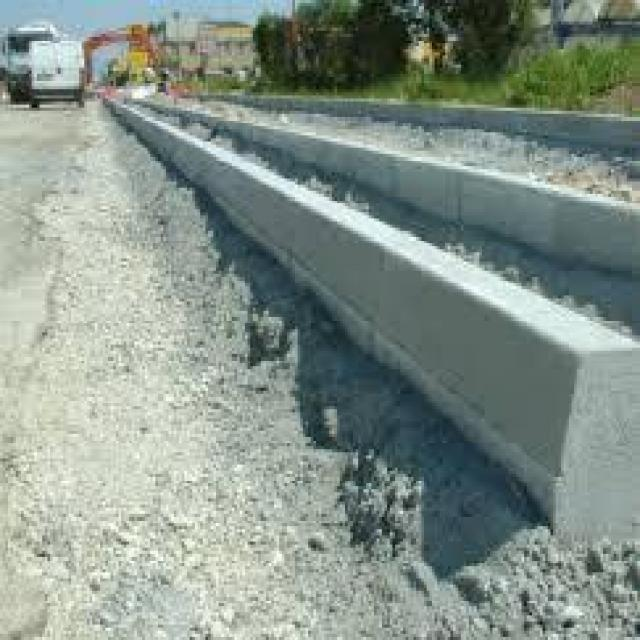curb: (370, 236, 639, 547), (168, 124, 379, 327), (122, 98, 171, 168)
